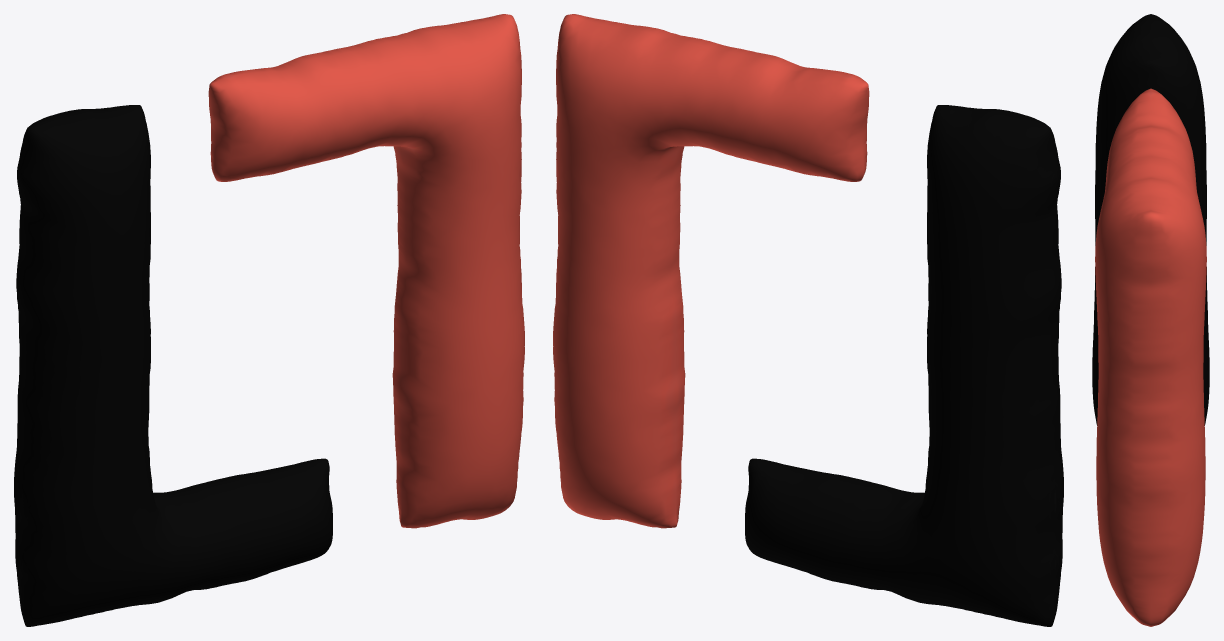
The model's file is LADZstill.glb.
3 renders of one model, left to right at view 1: azimuth 30°, elevation 25°; view 2: azimuth 150°, elevation 25°; view 3: azimuth 270°, elevation 25°, orthographic. The views are drawn at different scales.
Size of the model in its own units: 5.34 by 5.19 by 1.3.
Materials: 1 (1 with a texture image).
